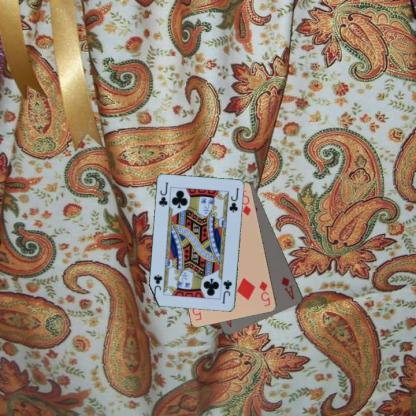5d: (257, 278, 272, 308)
Ad: (279, 274, 296, 301)
Jc: (156, 180, 170, 209), (219, 277, 233, 304)
